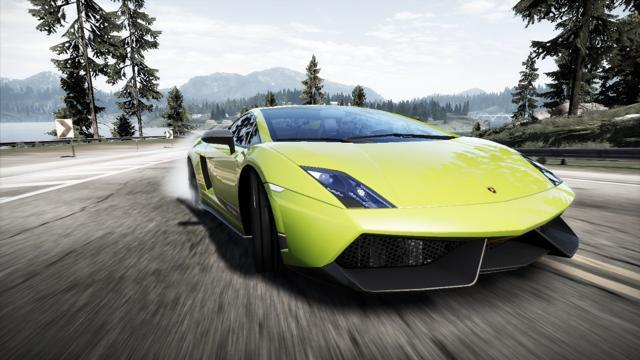Car: (176, 94, 588, 311)
